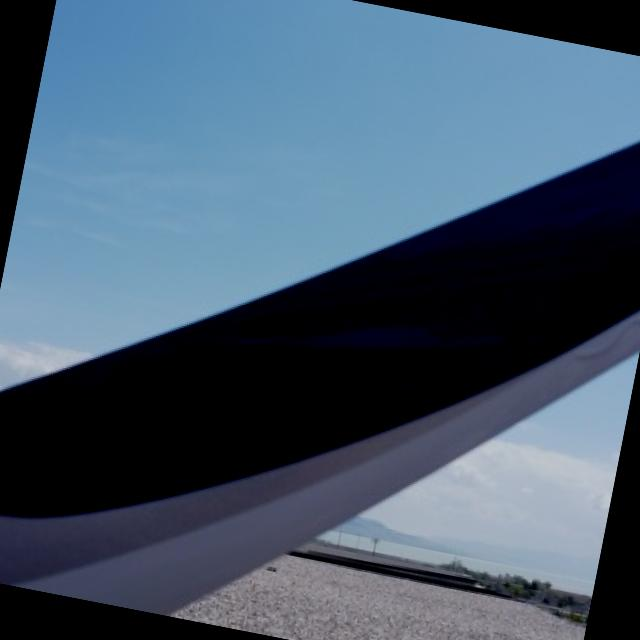healthy: (374, 356, 639, 555)
